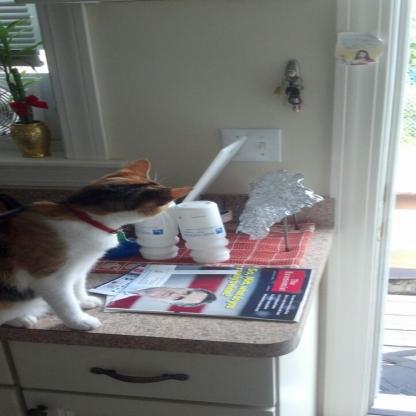Target: (3, 157, 186, 337)
